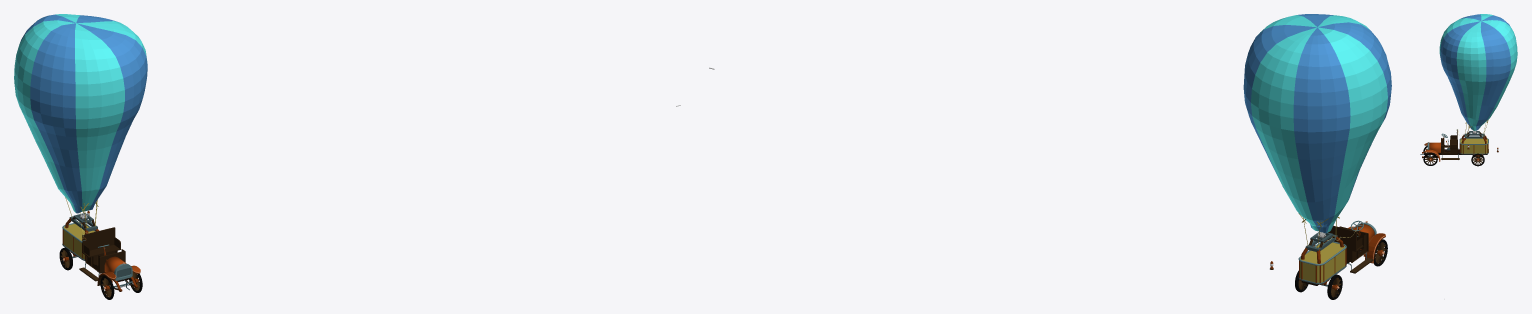
The model's file is lanterne.fbx.
3 views of the same model, side by side, from view 1: azimuth 30°, elevation 25°; view 2: azimuth 150°, elevation 25°; view 3: azimuth 270°, elevation 25° (orthographic). The views are drawn at different scales.
Visible parts, largest first — view 1: Enveloppe, Dossier, nacelle; view 2: Enveloppe, nacelle; view 3: Enveloppe, nacelle, CaisseRadiateur, portiere_G, SupportBruleursBase, plateforme.
Boxes of the visible parts, x1=… form: Enveloppe: x1=14, y1=14, x2=147, y2=213; Dossier: x1=82, y1=227, x2=115, y2=252; nacelle: x1=63, y1=224, x2=94, y2=259; Enveloppe: x1=1243, y1=14, x2=1391, y2=233; nacelle: x1=1300, y1=242, x2=1345, y2=282; Enveloppe: x1=1439, y1=14, x2=1517, y2=130; nacelle: x1=1460, y1=138, x2=1488, y2=153; CaisseRadiateur: x1=1429, y1=142, x2=1440, y2=152; portiere_G: x1=1441, y1=145, x2=1457, y2=154; SupportBruleursBase: x1=1464, y1=133, x2=1484, y2=138; plateforme: x1=1429, y1=149, x2=1487, y2=154.
Bounding box in the file's own units: 7841 × 2891 × 1803.
